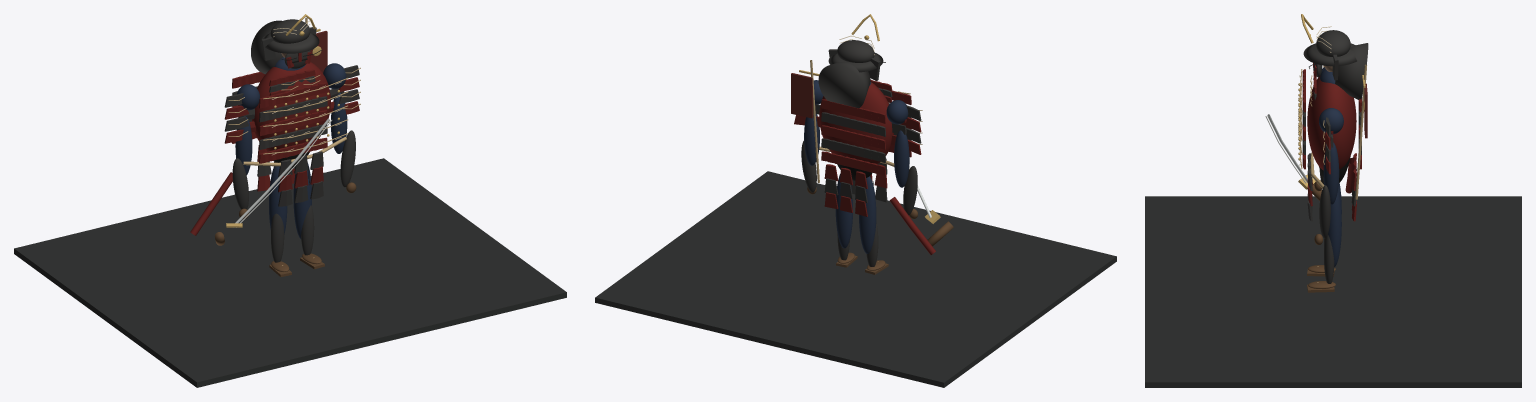
The model's file is samurai_character.glb.
3 renders of one model, left to right at view 1: azimuth 30°, elevation 25°; view 2: azimuth 150°, elevation 25°; view 3: azimuth 270°, elevation 25°, orthographic. The views are drawn at different scales.
Parts seen in each view (by area): view 1: matte charcoal inspection plinth, rounded do cuirass silhouette, rear shikoro neck guard flare, segmented kabuto helmet bowl, right armored upper arm, right kote forearm guard, left kote forearm guard, wide kabuto brim, left hakama trouser leg, right hakama trouser leg, left armored upper arm, left shin greave (+2 smaller); view 2: matte charcoal inspection plinth, rear shikoro neck guard flare, rounded do cuirass silhouette, cloth sashimono banner panel, left hakama trouser leg, left armored upper arm, segmented kabuto helmet bowl, right hakama trouser leg, right armored upper arm, left kote forearm guard, lacquered saya scabbard at left hip, right kote forearm guard; view 3: matte charcoal inspection plinth, rounded do cuirass silhouette, rear shikoro neck guard flare, segmented kabuto helmet bowl, right hakama trouser leg, wide kabuto brim, right armored upper arm, right kote forearm guard, right shoulder undercloth, right shin greave, bamboo sashimono back pole.
Part boxes in pixels (box(x1,y1,x2,y2)): matte charcoal inspection plinth: box(14, 158, 566, 387); rounded do cuirass silhouette: box(252, 62, 330, 151); rear shikoro neck guard flare: box(251, 20, 283, 74); segmented kabuto helmet bowl: box(270, 19, 310, 43); right armored upper arm: box(330, 93, 347, 153); right kote forearm guard: box(340, 130, 355, 187); left kote forearm guard: box(232, 158, 248, 209); wide kabuto brim: box(261, 33, 319, 53); left hakama trouser leg: box(269, 166, 287, 234); right hakama trouser leg: box(293, 163, 311, 239); left armored upper arm: box(235, 116, 252, 175); left shin greave: box(271, 213, 284, 262); matte charcoal inspection plinth: box(595, 171, 1116, 387); rear shikoro neck guard flare: box(818, 61, 870, 108); rounded do cuirass silhouette: box(819, 82, 893, 164); cloth sashimono banner panel: box(791, 73, 813, 118); left hakama trouser leg: box(859, 176, 876, 253); left armored upper arm: box(894, 130, 909, 187); segmented kabuto helmet bowl: box(837, 40, 874, 62); right hakama trouser leg: box(835, 173, 852, 248); right armored upper arm: box(804, 114, 819, 165); left kote forearm guard: box(903, 166, 917, 215); lacquered saya scabbard at left hip: box(889, 197, 935, 254); right kote forearm guard: box(801, 140, 816, 192); matte charcoal inspection plinth: box(1145, 196, 1521, 387); rounded do cuirass silhouette: box(1307, 76, 1356, 170); rear shikoro neck guard flare: box(1335, 43, 1368, 99); segmented kabuto helmet bowl: box(1316, 30, 1350, 56); right hakama trouser leg: box(1328, 189, 1341, 267); wide kabuto brim: box(1303, 43, 1356, 66); right armored upper arm: box(1323, 142, 1339, 204); right kote forearm guard: box(1319, 185, 1330, 238); right shoulder undercloth: box(1319, 108, 1343, 134); right shin greave: box(1324, 235, 1334, 283); bamboo sashimono back pole: box(1355, 64, 1366, 199).
Bounding box in the file's own units: 4.2 × 2.96 × 3.6.
